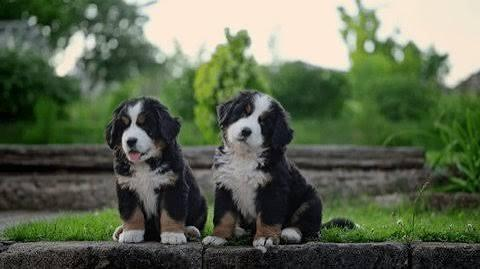puppy-dog: (200, 88, 357, 246), (104, 97, 209, 245)
